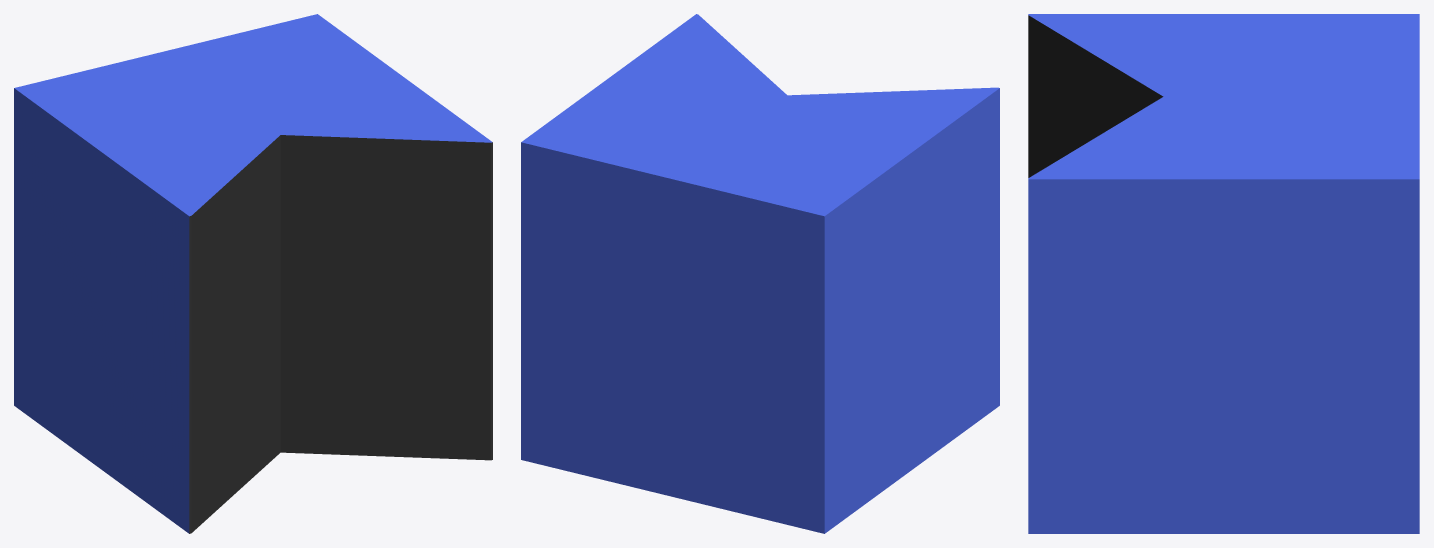
The model's file is ShapeCube.fbx.
The picture shows the model from 3 angles, left to right: view 1: azimuth 30°, elevation 25°; view 2: azimuth 150°, elevation 25°; view 3: azimuth 270°, elevation 25°; orthographic projection. The views are drawn at different scales.
Parts seen in each view (by area): view 1: Cube; view 2: Cube; view 3: Cube.
Part boxes in pixels (x1,y1,x2,y2): Cube: (14, 14, 492, 533); Cube: (521, 14, 999, 533); Cube: (1028, 14, 1419, 533).
Size of the model in its own units: 56.19 by 56.19 by 56.19.
